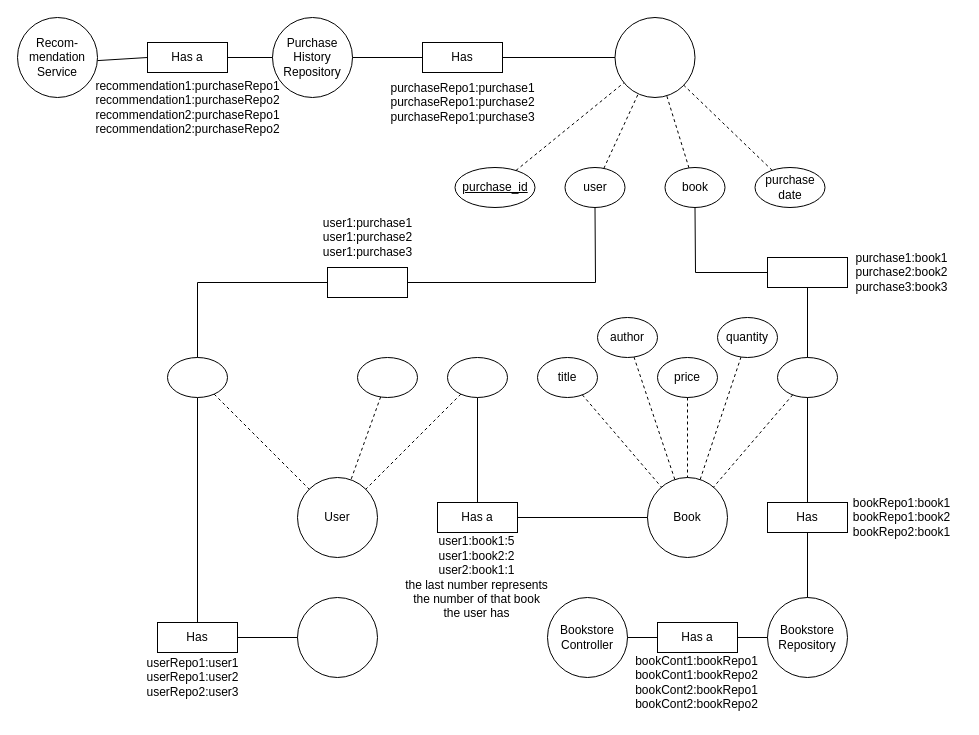
Image size: 979x735. Some labels were removed from this diagram. The box of each missing label's shape, as (x1, y1, x2, y2) in pixels:
cart: (446, 356, 508, 398)
id: (166, 356, 228, 398)
isbn: (776, 356, 838, 398)
name: (356, 356, 418, 398)
Purchase History: (614, 16, 695, 98)
Purchased: (766, 256, 848, 288)
Purchaser: (326, 266, 408, 298)
User Repository: (296, 596, 378, 678)
